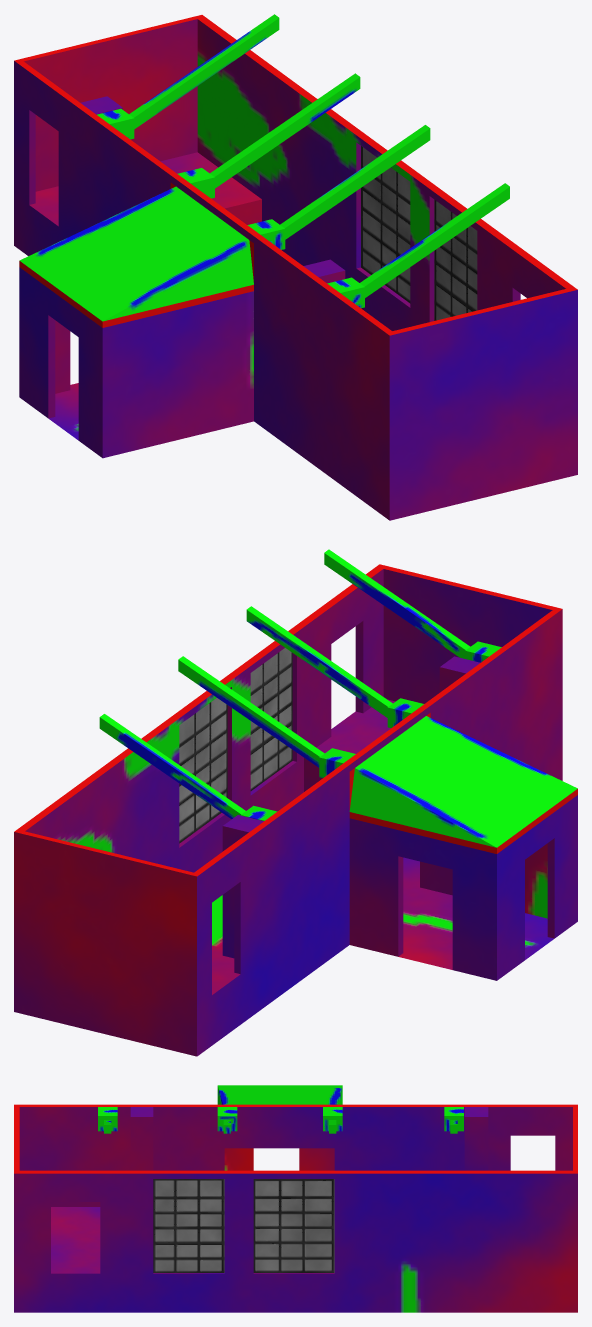
File: Room.fbx
3 renders of one model, top to bottom at view 1: azimuth 30°, elevation 25°; view 2: azimuth 150°, elevation 25°; view 3: azimuth 270°, elevation 25°, orthographic. The views are drawn at different scales.
Visible parts, largest first — view 1: Walls, Roof, Windows, Floor; view 2: Walls, Roof, Windows, Floor; view 3: Walls, Windows, Roof, Floor.
Boxes of the visible parts, x1=… form: Walls: x1=14, y1=19, x2=577, y2=520; Roof: x1=14, y1=14, x2=577, y2=335; Windows: x1=361, y1=146, x2=477, y2=320; Floor: x1=29, y1=152, x2=261, y2=440; Walls: x1=14, y1=569, x2=577, y2=1056; Roof: x1=14, y1=549, x2=577, y2=876; Windows: x1=179, y1=648, x2=292, y2=843; Floor: x1=212, y1=699, x2=553, y2=994; Walls: x1=14, y1=1107, x2=577, y2=1312; Windows: x1=153, y1=1179, x2=334, y2=1272; Roof: x1=14, y1=1085, x2=577, y2=1173; Floor: x1=51, y1=1207, x2=100, y2=1273.
Bounding box in the file's own units: 6.72 × 4.66 × 12.88.
Materials: 4 (4 with a texture image).
